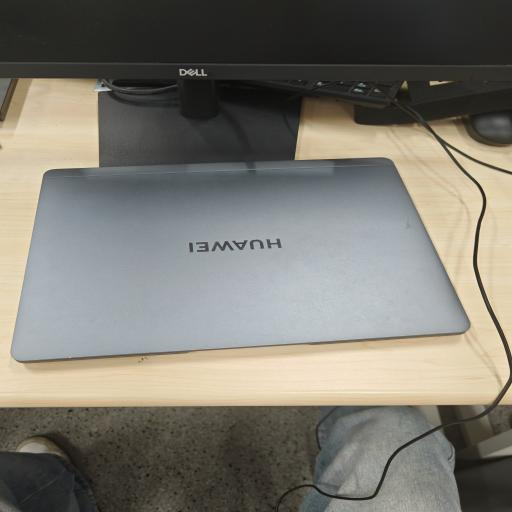laptop: (11, 158, 470, 362)
mouse: (464, 110, 512, 146)
